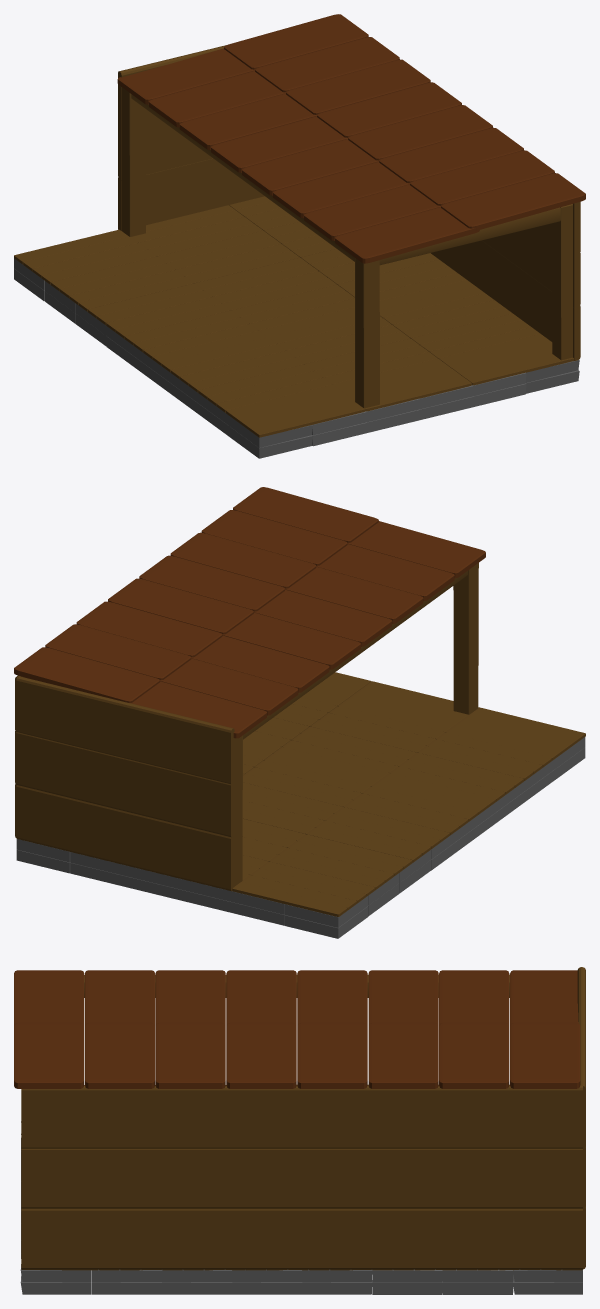
The model's file is SM_SawMill.fbx.
3 views of the same model, one above another, from view 1: azimuth 30°, elevation 25°; view 2: azimuth 150°, elevation 25°; view 3: azimuth 270°, elevation 25° (orthographic). The views are drawn at different scales.
Parts seen in each view (by area): view 1: SM_FloorBoard, SM_Roof, SM_WallPanel, SM_Frame, SM_Foundation; view 2: SM_Roof, SM_FloorBoard, SM_WallPanel, SM_Foundation, SM_Frame; view 3: SM_WallPanel, SM_Roof, SM_Foundation, SM_FloorBoard.
Part boxes in pixels (box(x1,y1,x2,y2)): SM_FloorBoard: box(14, 196, 573, 437); SM_Roof: box(117, 14, 585, 263); SM_WallPanel: box(118, 45, 580, 360); SM_Frame: box(122, 87, 572, 408); SM_Foundation: box(14, 258, 579, 458); SM_Roof: box(14, 487, 485, 738); SM_FloorBoard: box(232, 672, 585, 916); SM_WallPanel: box(15, 675, 234, 891); SM_Foundation: box(16, 737, 585, 938); SM_Frame: box(234, 563, 478, 886); SM_WallPanel: box(21, 967, 585, 1269); SM_Roof: box(14, 970, 580, 1088); SM_Foundation: box(20, 1121, 582, 1294); SM_FloorBoard: box(22, 1269, 582, 1270).
Bounding box in the file's own units: 610 × 814 × 337.
